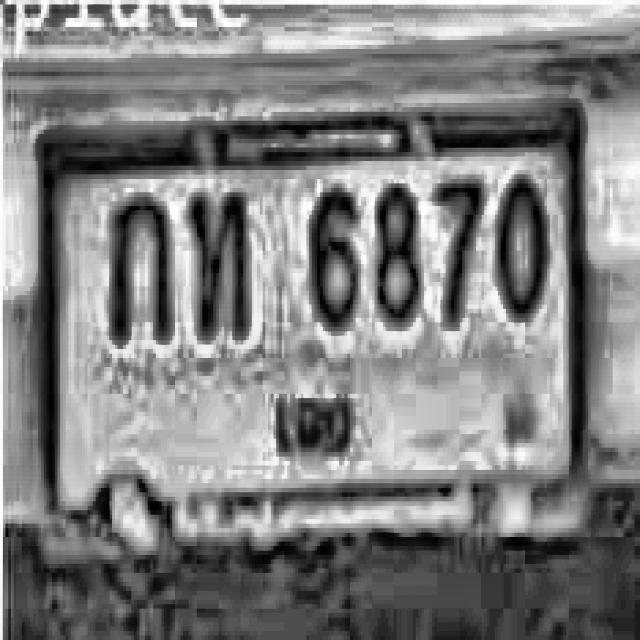license-plate: (24, 106, 608, 571)
